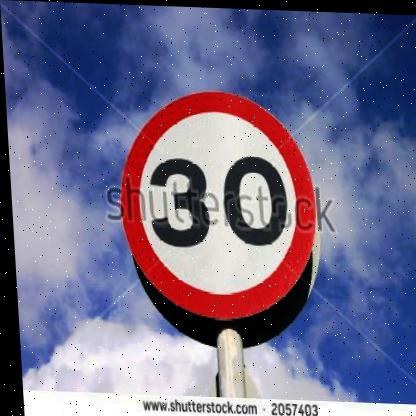Speed Limit -30-: (110, 84, 322, 333)
